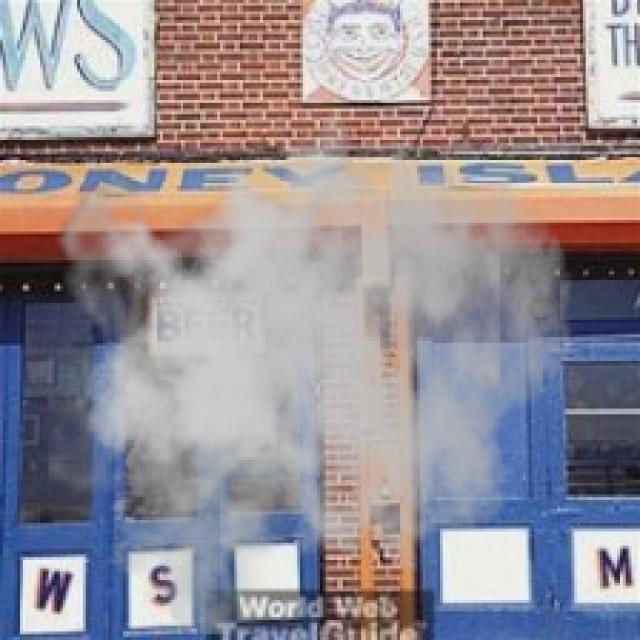smoke: (49, 83, 574, 634)
